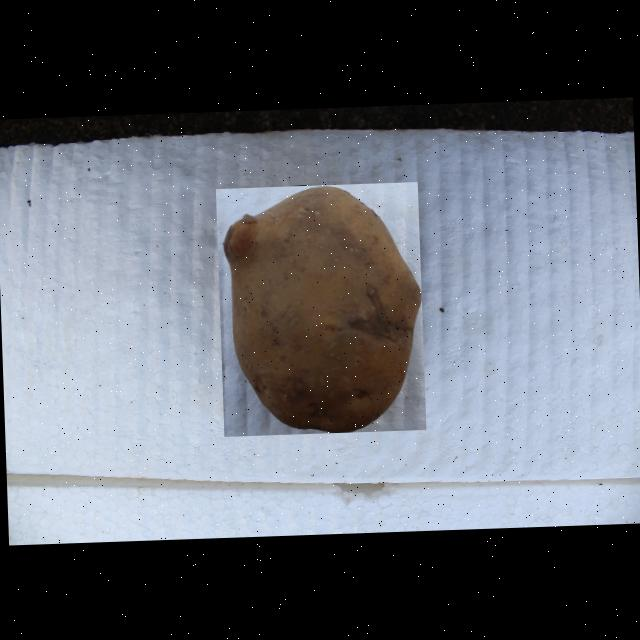Diseased-fungal potato: (214, 180, 425, 436)
